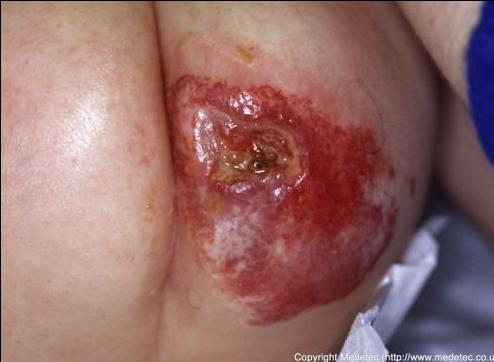NonPU: (161, 64, 407, 335)
